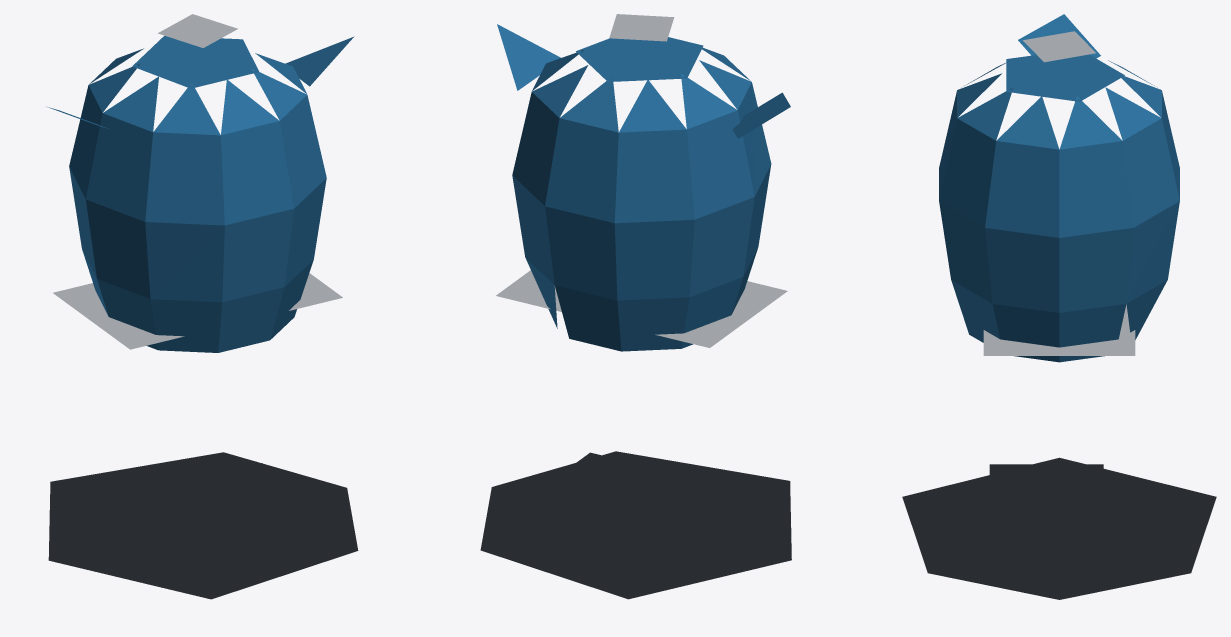
Rendered from water-suit.lod.glb.
3 renders of one model, left to right at view 1: azimuth 30°, elevation 25°; view 2: azimuth 150°, elevation 25°; view 3: azimuth 270°, elevation 25°, orthographic. The views are drawn at different scales.
Parts seen in each view (by area): view 1: m; view 2: m; view 3: m.
Part boxes in pixels (x1=…): m: x1=46, y1=14, x2=358, y2=599; m: x1=480, y1=14, x2=791, y2=599; m: x1=902, y1=14, x2=1216, y2=599.
Size of the model in its own units: 0.3318 by 0.4248 by 0.2398.
